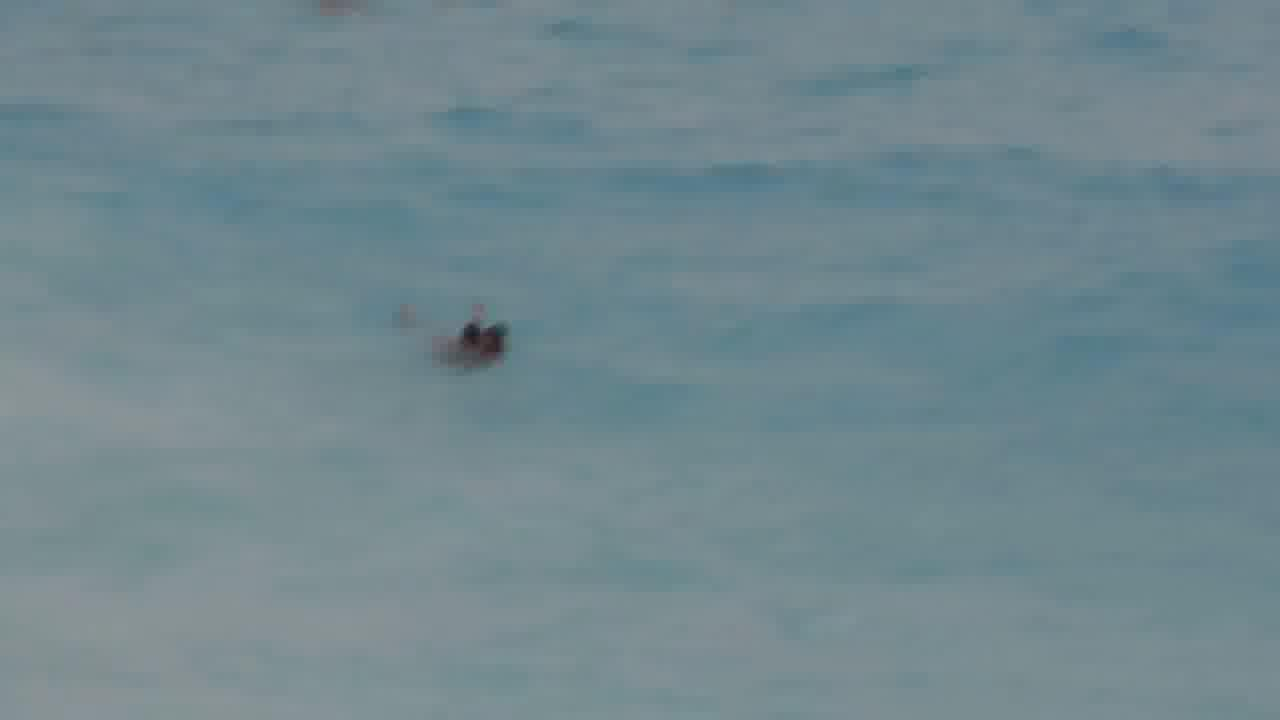human: (438, 308, 526, 367)
